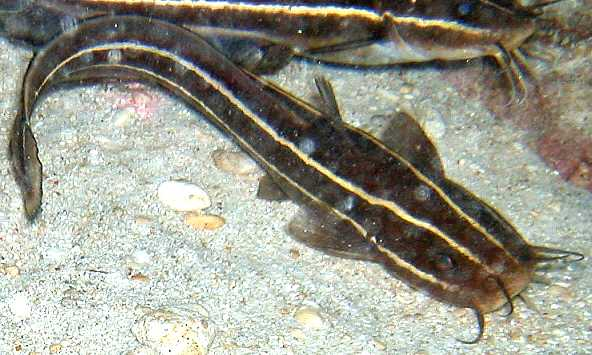gonzui: (19, 19, 574, 335)
